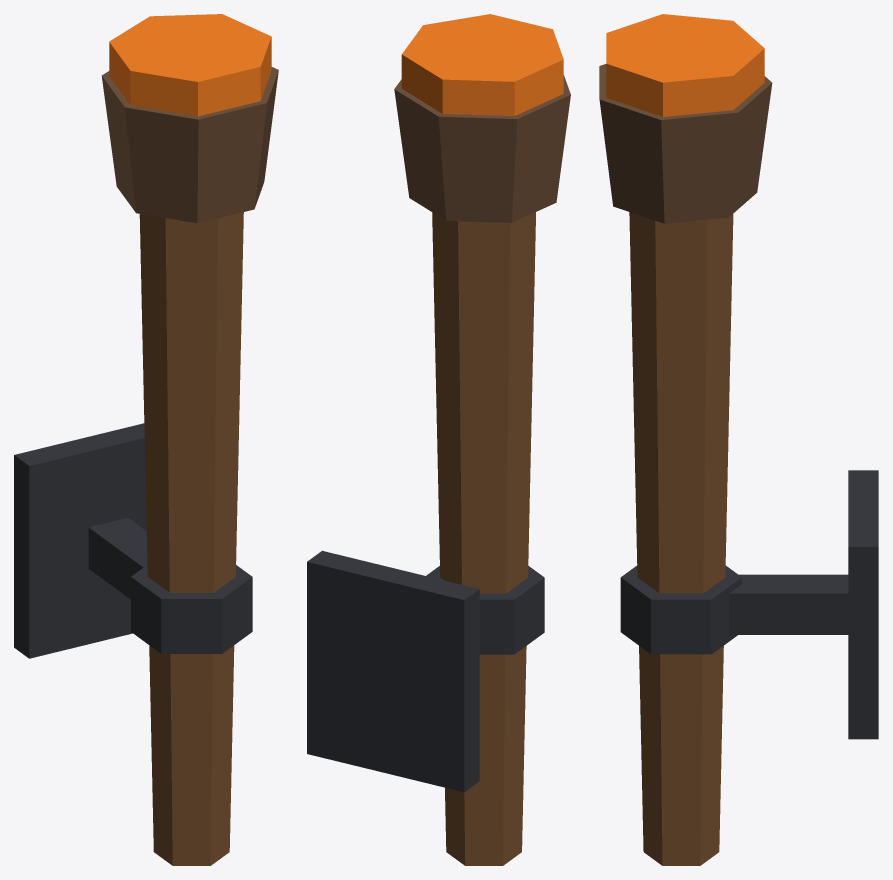
Rendered from torch.fbx.
The picture shows the model from 3 angles, left to right: view 1: azimuth 30°, elevation 25°; view 2: azimuth 150°, elevation 25°; view 3: azimuth 270°, elevation 25°; orthographic projection.
Parts seen in each view (by area): view 1: Torch, Glow_Glow; view 2: Torch, Glow_Glow; view 3: Torch, Glow_Glow.
Boxes of the visible parts, left/top/right/bottom form: Torch: left=14, top=67, right=278, bottom=865; Glow_Glow: left=109, top=14, right=271, bottom=116; Torch: left=307, top=75, right=570, bottom=865; Glow_Glow: left=401, top=14, right=563, bottom=116; Torch: left=599, top=64, right=878, bottom=865; Glow_Glow: left=606, top=14, right=764, bottom=116.
Size of the model in its own units: 0.12 by 0.585 by 0.1841.
Materials: 2 (2 with a texture image).
